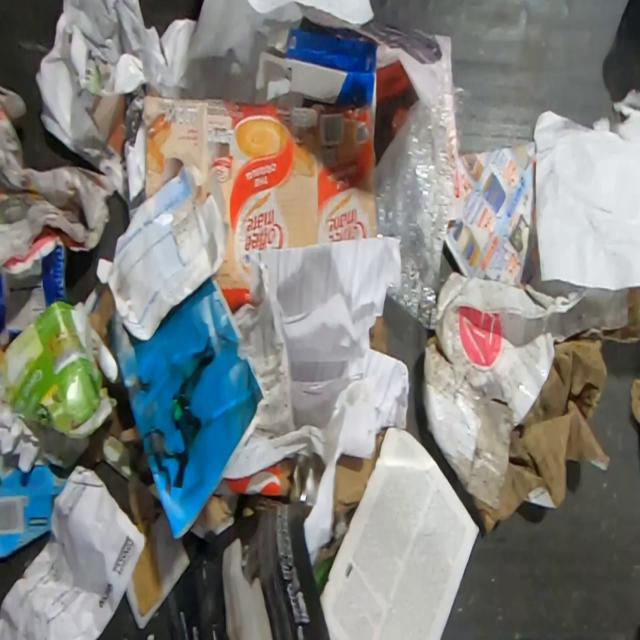cardboard: (124, 85, 378, 314), (421, 270, 640, 535), (0, 285, 120, 472), (0, 243, 68, 352), (0, 452, 68, 559), (128, 474, 162, 617), (334, 429, 386, 518), (225, 457, 294, 518), (195, 494, 232, 532), (370, 316, 389, 355), (630, 377, 640, 423)
soft_plastic: (375, 85, 474, 330)
